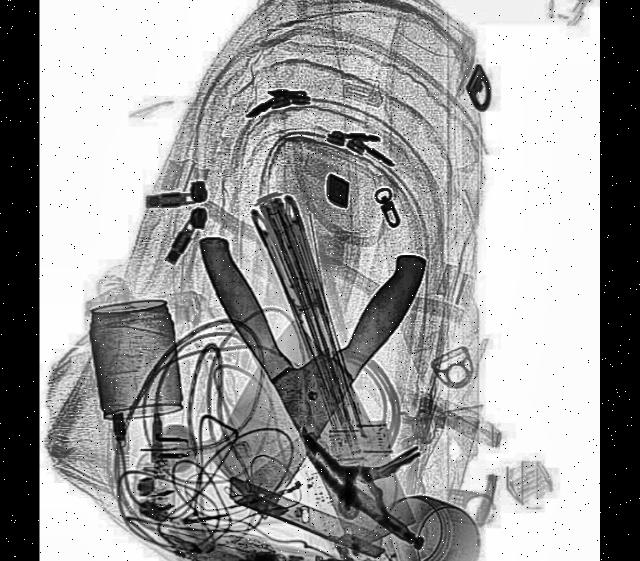Knife: (194, 193, 417, 561), (202, 199, 433, 526)
